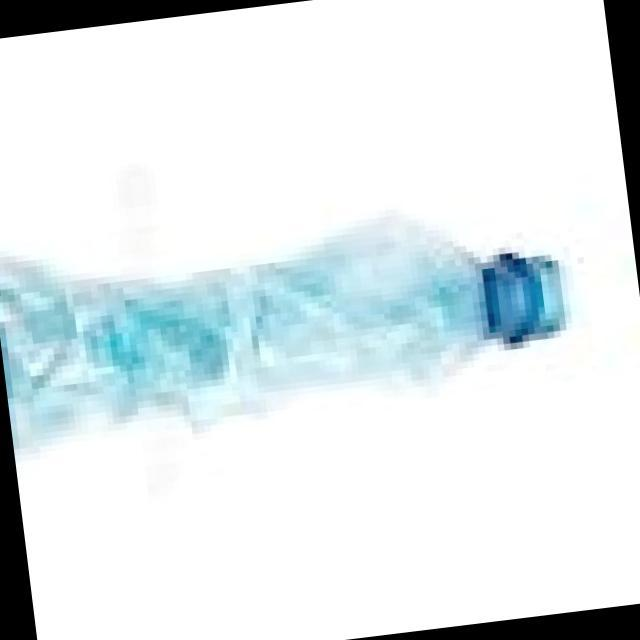defected: (0, 152, 606, 491)
